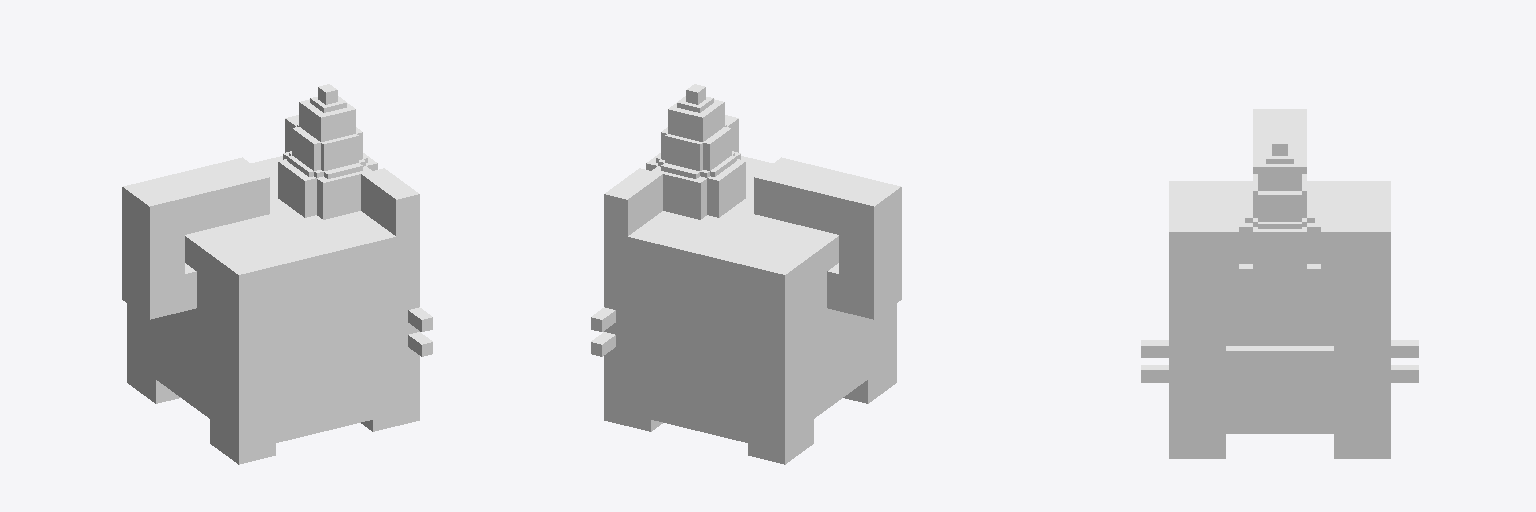
File: BirsdayCat.obj
3 views of the same model, side by side, from view 1: azimuth 30°, elevation 25°; view 2: azimuth 150°, elevation 25°; view 3: azimuth 270°, elevation 25° (orthographic).
Visible parts, largest first — view 1: object 1; view 2: object 1; view 3: object 1.
Boxes of the visible parts, box(x1,y1,x2,y2) form: object 1: box(122, 84, 432, 464); object 1: box(591, 84, 901, 464); object 1: box(1141, 109, 1418, 458).
Size of the model in its own units: 10.2 by 12.2 by 10.2.